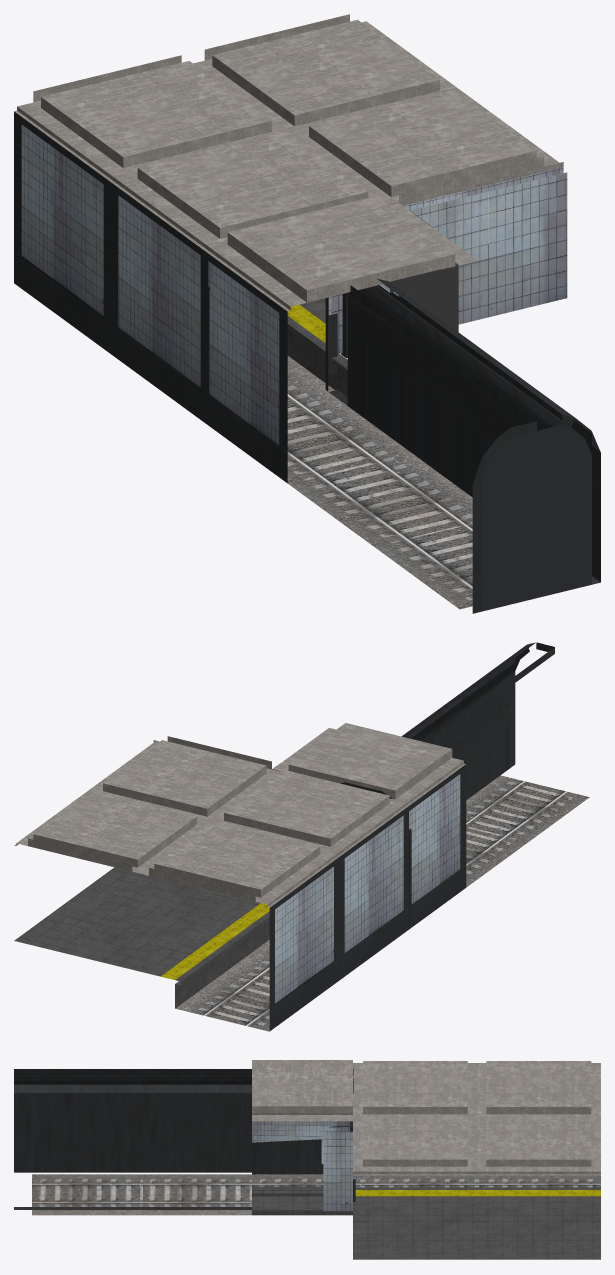
Rendered from Dıs3.fbx.
3 renders of one model, top to bottom at view 1: azimuth 30°, elevation 25°; view 2: azimuth 150°, elevation 25°; view 3: azimuth 270°, elevation 25°, orthographic. The views are drawn at different scales.
Parts seen in each view (by area): view 1: Dış 3; view 2: Dış 3; view 3: Dış 3.
Part boxes in pixels (bbox=[...]): Dış 3: bbox=[14, 14, 600, 613]; Dış 3: bbox=[14, 642, 589, 1031]; Dış 3: bbox=[14, 1060, 600, 1259].
Bounding box in the file's own units: 1341 × 670 × 2965.
